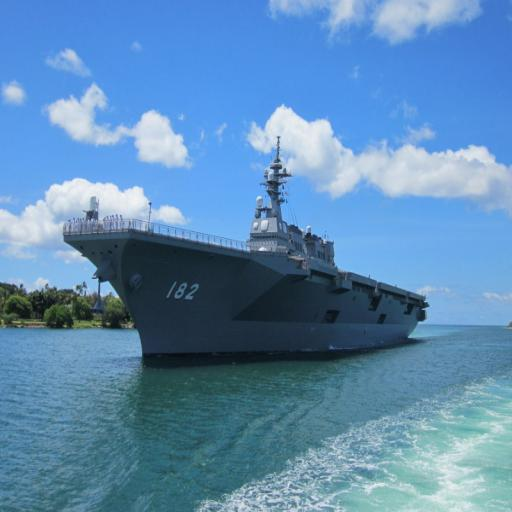Portanaves: (63, 129, 434, 368)
